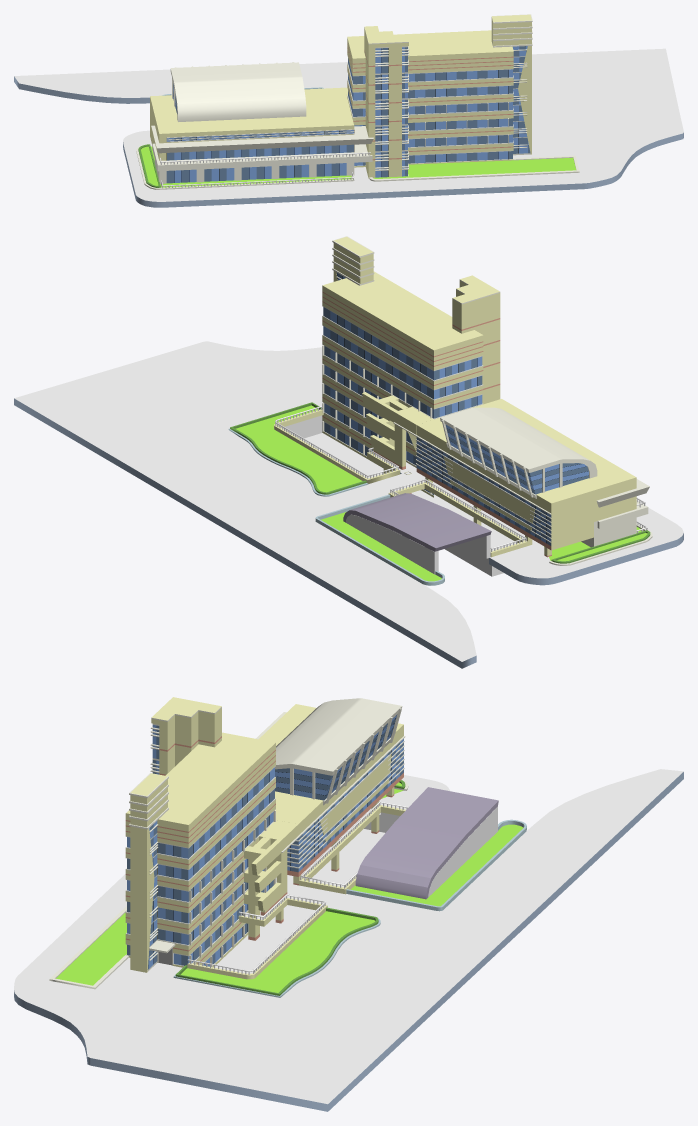
File: prb.fbx
3 views of the same model, one above another, from view 1: azimuth 30°, elevation 25°; view 2: azimuth 150°, elevation 25°; view 3: azimuth 270°, elevation 25° (orthographic). The views are drawn at different scales.
Parts seen in each view (by area): view 1: PRB_008, PRB_018, PRB_015, PRB_023, PRB_002, PRB_022, PRB_026, PRB_037, PRB_014, PRB_040, PRB_017, PRB_027 (+10 smaller); view 2: PRB_008, PRB_023, PRB_021, PRB_018, PRB_015, PRB_038, PRB_005, PRB_016, PRB_022, PRB_036, PRB_009, PRB_020 (+12 smaller); view 3: PRB_008, PRB_005, PRB_018, PRB_021, PRB_015, PRB_016, PRB_040, PRB_038, PRB_022, PRB_009, PRB_023, PRB_026 (+14 smaller).
Boxes of the visible parts, x1,y1,x2,y2 form: PRB_008: (14, 48, 683, 207); PRB_018: (347, 30, 513, 167); PRB_015: (170, 62, 306, 121); PRB_023: (150, 87, 354, 183); PRB_002: (348, 58, 512, 165); PRB_022: (364, 26, 408, 178); PRB_026: (369, 155, 579, 181); PRB_037: (151, 125, 373, 153); PRB_014: (152, 143, 372, 171); PRB_040: (491, 14, 532, 154); PRB_017: (166, 163, 346, 183); PRB_027: (136, 144, 354, 189); PRB_008: (14, 341, 683, 668); PRB_023: (415, 399, 636, 550); PRB_021: (322, 285, 433, 497); PRB_018: (322, 271, 483, 419); PRB_015: (440, 407, 597, 498); PRB_038: (323, 307, 433, 494); PRB_005: (343, 493, 491, 551); PRB_016: (228, 402, 368, 496); PRB_022: (452, 275, 500, 404); PRB_036: (362, 392, 433, 469); PRB_009: (315, 494, 444, 585); PRB_020: (445, 424, 588, 494); PRB_008: (14, 769, 683, 1111); PRB_005: (355, 787, 498, 899); PRB_018: (125, 732, 275, 967); PRB_021: (188, 743, 275, 967); PRB_015: (275, 698, 402, 805); PRB_016: (173, 907, 380, 997); PRB_040: (129, 773, 168, 972); PRB_038: (188, 767, 274, 966); PRB_022: (151, 697, 221, 886); PRB_009: (346, 819, 526, 911); PRB_023: (259, 704, 405, 836); PRB_026: (49, 906, 128, 989).
Bounding box in the file's own units: 10.76 × 2.85 × 8.64.
